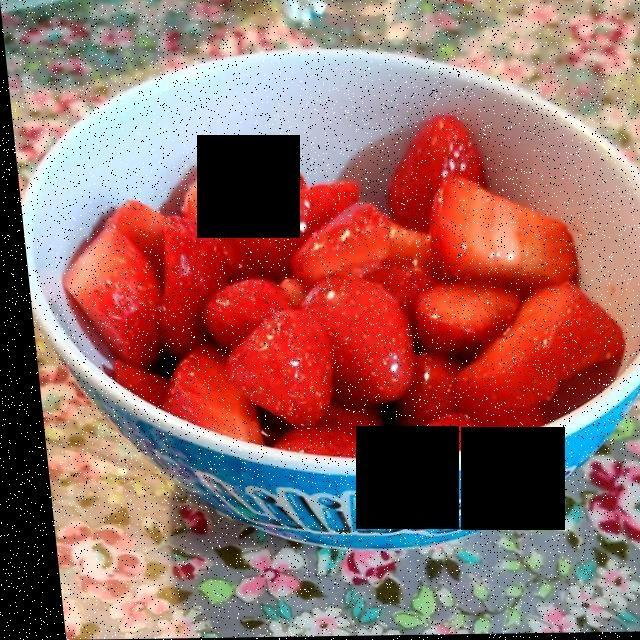strawberries: (86, 155, 602, 452)
